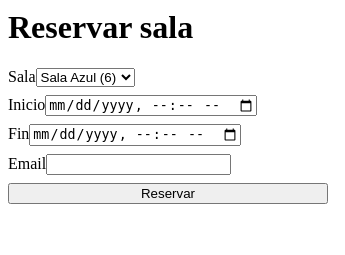
Scenario: BookingsPage › shows an error when the end is before the start
The width and height of the screenshot is (345, 255).
Type "2099-01-10T11:00" into the field labelled "Inicio" at (151,106), box [45, 95, 257, 116]
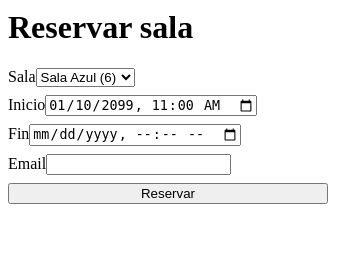
Type "2099-01-10T10:00" into the field labelled "Fin" at (135,135), box [29, 124, 241, 146]
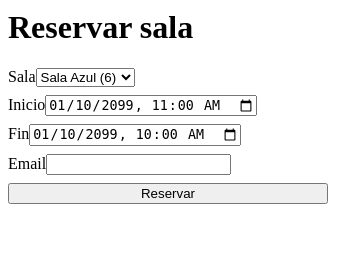
Type "ana@example.com" into the field labelled "Email" at (139,164), box [46, 154, 231, 174]
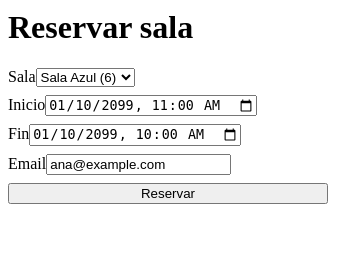
Click the button "Reservar" at (168,193), box [8, 182, 328, 204]
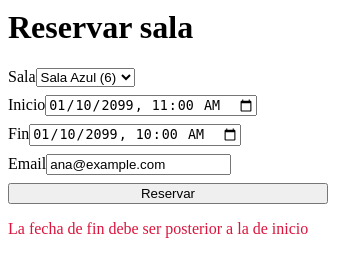
Expected: the message reads "La fecha de fin debe ser posterior a la de inicio", [8, 220, 308, 236]
